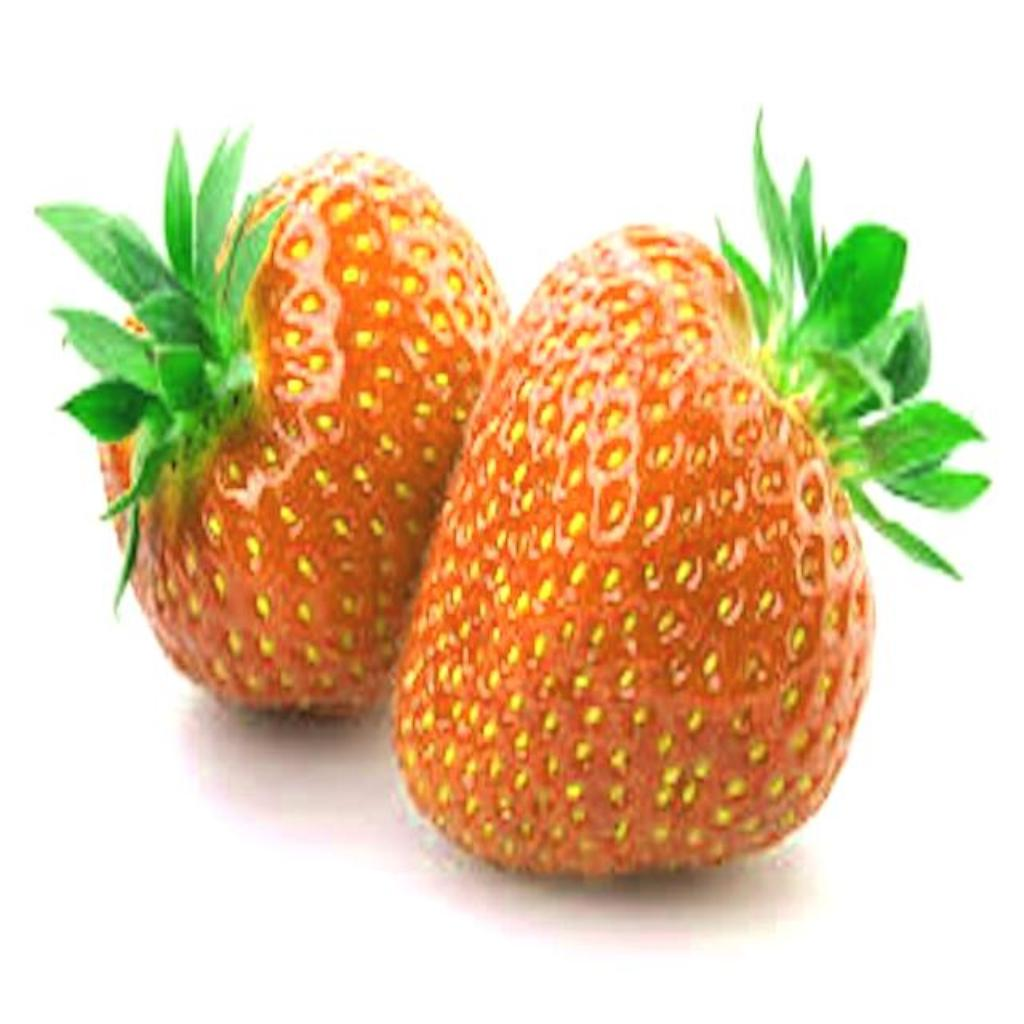strawberry: (394, 132, 986, 873), (38, 138, 504, 715)
